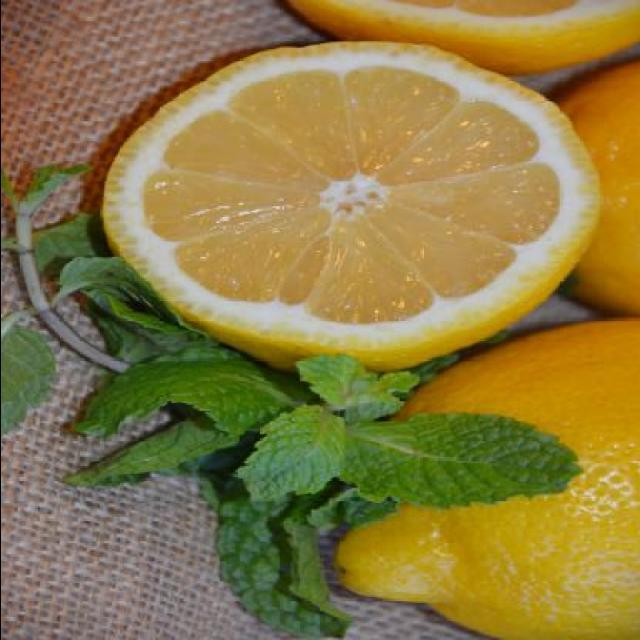Lemon: (86, 44, 609, 364), (340, 320, 640, 638), (288, 0, 634, 74), (554, 67, 638, 310)
